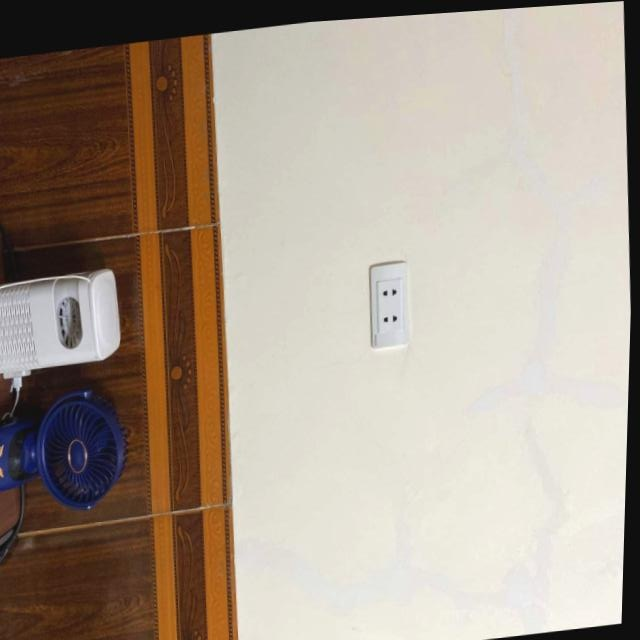outlet: (367, 260, 413, 351)
